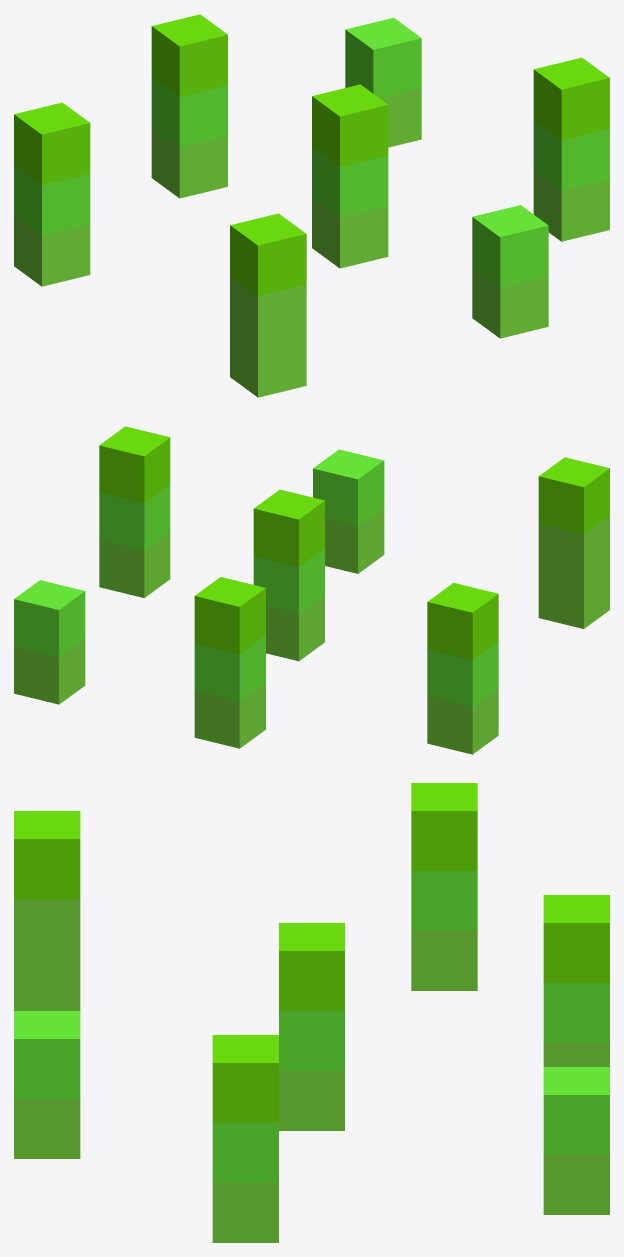
File: GrassShort.obj
3 views of the same model, one above another, from view 1: azimuth 30°, elevation 25°; view 2: azimuth 150°, elevation 25°; view 3: azimuth 270°, elevation 25° (orthographic). The views are drawn at different scales.
Bounding box in the file's own units: 1 × 0.3 × 0.9.
1 material, 1 textured.
